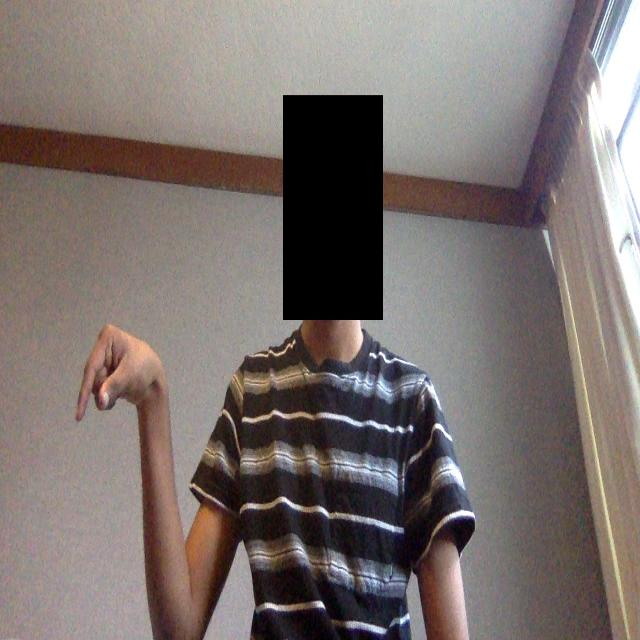Q: (68, 288, 192, 466)
